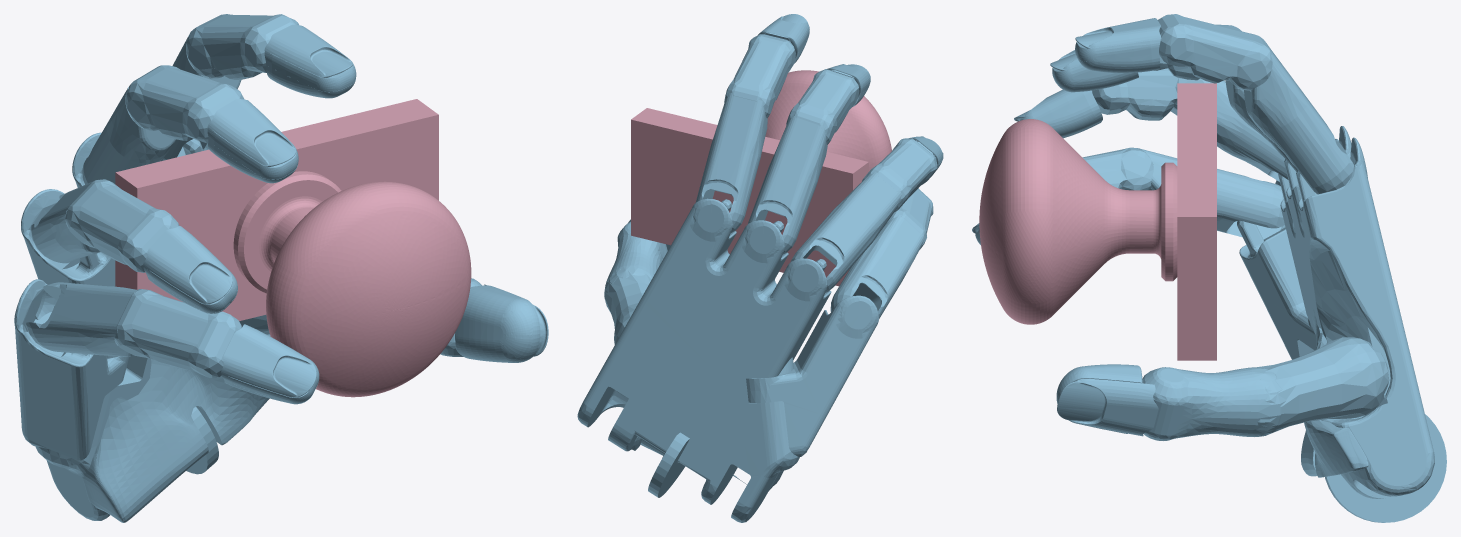
3 renders of one model, left to right at view 1: azimuth 30°, elevation 25°; view 2: azimuth 150°, elevation 25°; view 3: azimuth 270°, elevation 25°, orthographic. The views are drawn at different scales.
Parts seen in each view (by area): view 1: world, door_knob.stl; view 2: world, door_knob.stl; view 3: world, door_knob.stl.
Part boxes in pixels (x1,y1,x2,y2): world: (14, 14, 548, 522); door_knob.stl: (115, 99, 471, 397); world: (577, 14, 943, 522); door_knob.stl: (631, 70, 891, 286); world: (972, 14, 1446, 522); door_knob.stl: (979, 83, 1216, 360).
Bounding box in the file's own units: 0.1376 × 0.1775 × 0.15.
